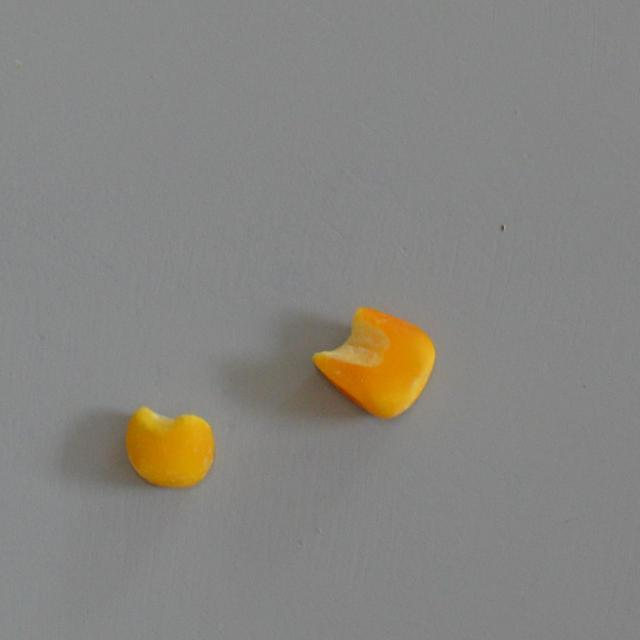no_canjicado: (310, 304, 437, 422), (122, 403, 215, 490)
